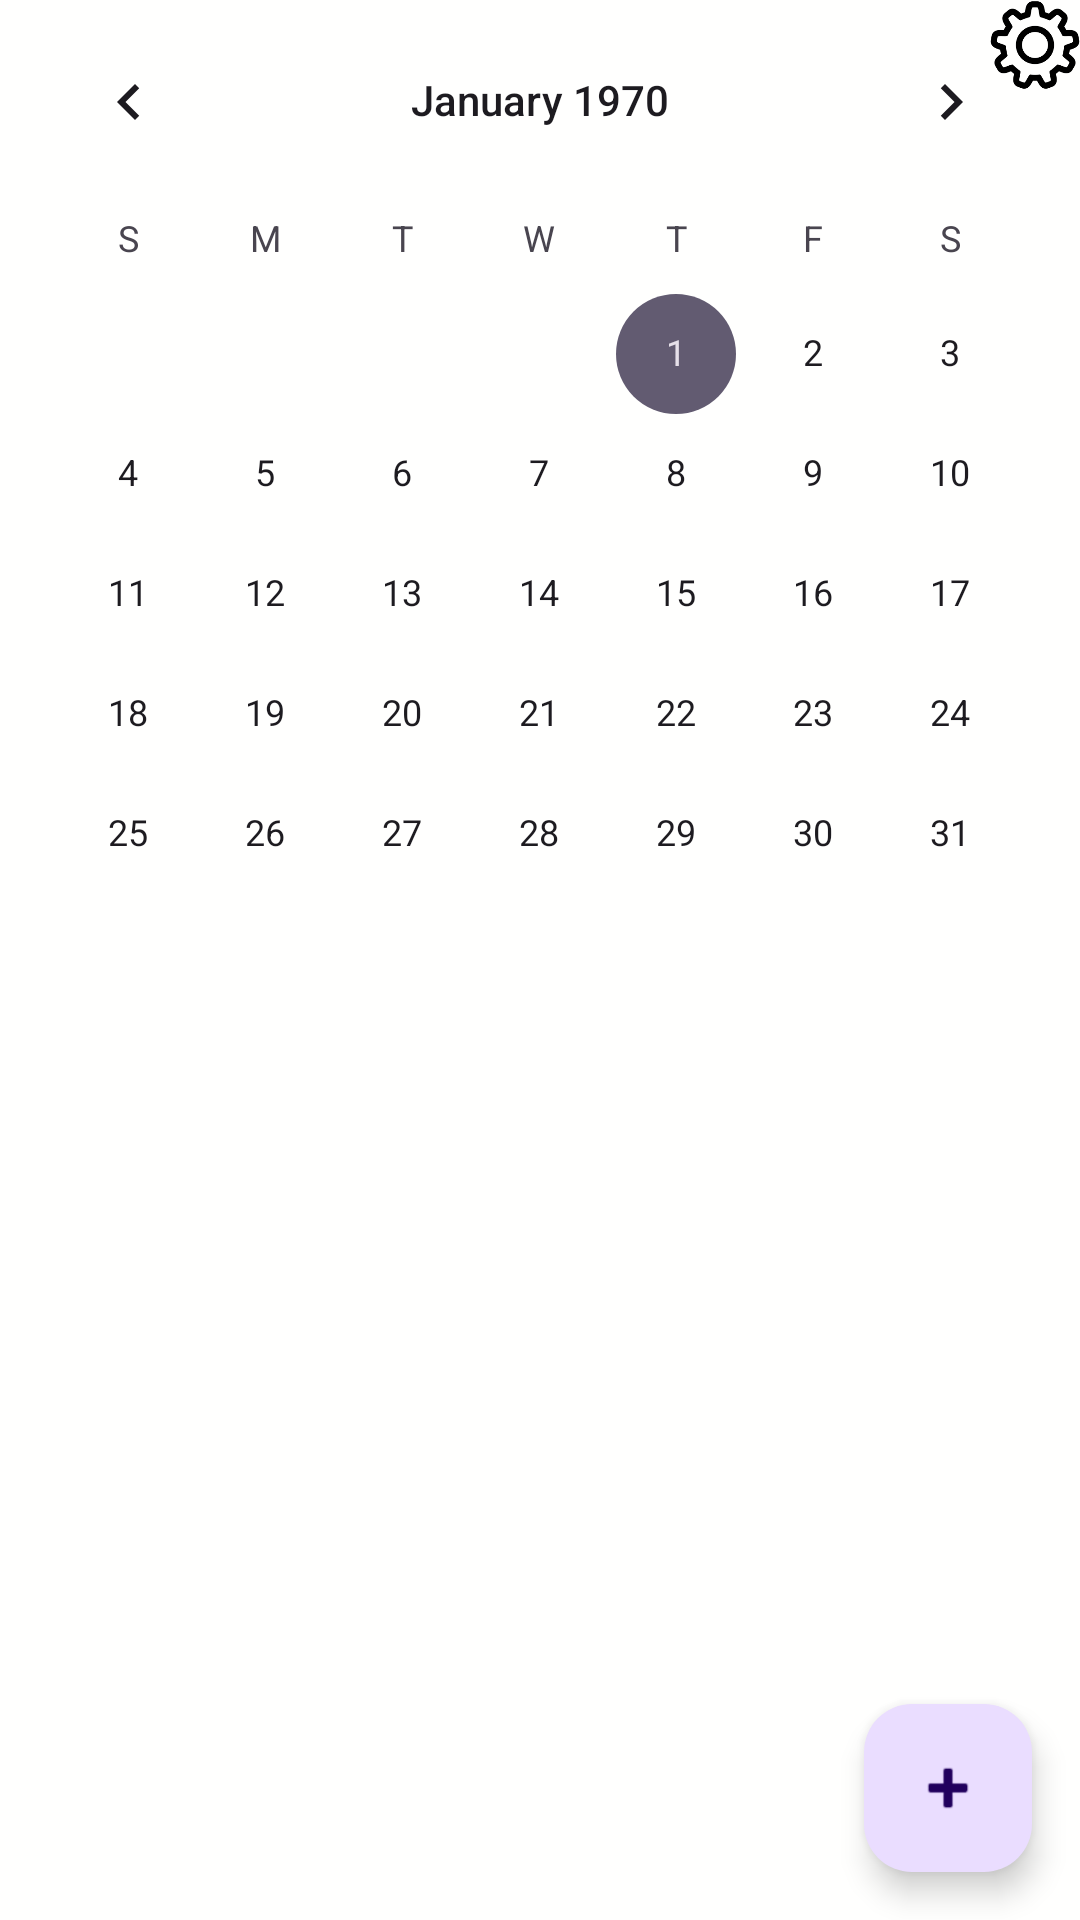

Screen size 1080 x 1920. Icon name, then its center in pixels as [x,y]:
add: [948,1788]
Settings: [1035,45]
